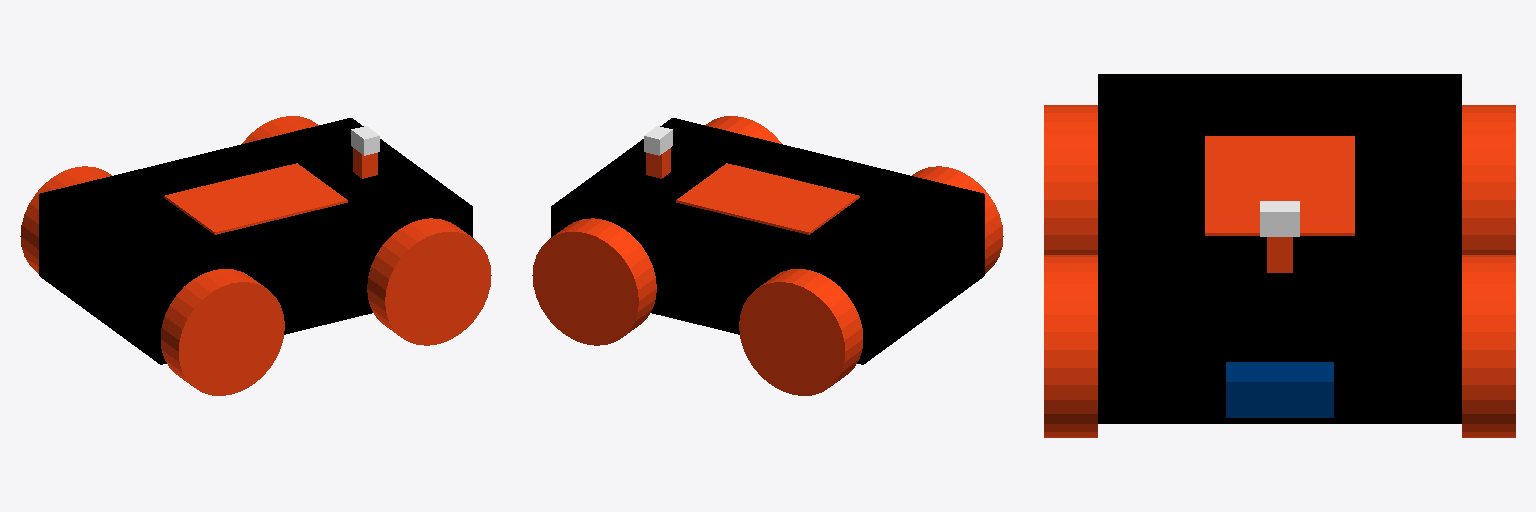
The robot description file, URDF, robot "robot":
<?xml version="1.0" ?>
<!-- =================================================================================== -->
<!-- |    This document was autogenerated by xacro from src/vision_bot/description/robot.urdf.xacro | -->
<!-- |    EDITING THIS FILE BY HAND IS NOT RECOMMENDED                                 | -->
<!-- =================================================================================== -->
<robot name="robot">
  <!-- COLORS -->
  <material name="white">
    <color rgba="1 1 1 1"/>
  </material>
  <material name="orange">
    <color rgba="1 0.3 0.1 1"/>
  </material>
  <material name="blue">
    <color rgba="0 0.2588 0.51 1"/>
  </material>
  <material name="black">
    <color rgba="0 0 0 1"/>
  </material>
  <!-- BASE LINK -->
  <link name="base_link">

    </link>
  <!-- COMPONENTS -->
  <!-- Specify some standard inertial calculations https://en.wikipedia.org/wiki/List_of_moments_of_inertia -->
  <!-- These make use of xacro's mathematical functionality -->
  <!-- CHASSIS LINK -->
  <joint name="chassis_joint" type="fixed">
    <parent link="base_link"/>
    <child link="chassis"/>
    <origin xyz="0 0 0.018"/>
  </joint>
  <link name="chassis">
    <visual>
      <origin xyz="0.1 0 0.025"/>
      <geometry>
        <box size="0.2 0.135 0.05"/>
      </geometry>
      <material name="black"/>
    </visual>
    <collision>
      <origin xyz="0.1 0 0.025"/>
      <geometry>
        <box size="0.2 0.135 0.05"/>
      </geometry>
      <material name="black"/>
    </collision>
    <inertial>
      <origin rpy="0 0 0" xyz="0.1 0 0.025"/>
      <mass value="1.5"/>
      <inertia ixx="0.002590625" ixy="0.0" ixz="0.0" iyy="0.005312500000000001" iyz="0.0" izz="0.007278125000000002"/>
    </inertial>
  </link>
  <joint name="cpu_joint" type="fixed">
    <parent link="chassis"/>
    <child link="cpu_link"/>
    <origin rpy="0 0 0" xyz="0.1 0 0.05075"/>
  </joint>
  <link name="cpu_link">
    <visual>
      <geometry>
        <box size="0.085 0.056 0.0015"/>
      </geometry>
      <material name="orange"/>
    </visual>
    <collision>
      <geometry>
        <box size="0.085 0.056 0.0015"/>
      </geometry>
      <material name="orange"/>
    </collision>
    <inertial>
      <origin rpy="0 0 0" xyz="0 0 0.0"/>
      <mass value="0.1"/>
      <inertia ixx="2.6152083333333337e-05" ixy="0.0" ixz="0.0" iyy="6.022708333333334e-05" iyz="0.0" izz="8.634166666666669e-05"/>
    </inertial>
  </link>
  <!-- Specify some standard inertial calculations https://en.wikipedia.org/wiki/List_of_moments_of_inertia -->
  <!-- These make use of xacro's mathematical functionality -->
  <!-- LEFT REAR WHEEL LINK -->
  <joint name="rear_left_wheel_joint" type="continuous">
    <parent link="chassis"/>
    <child link="rear_left_wheel"/>
    <origin rpy="-1.5707963267948966 0 0" xyz="0.034 0.0775 0.016000000000000004"/>
    <axis xyz="0 0 1"/>
  </joint>
  <link name="rear_left_wheel">
    <visual>
      <geometry>
        <cylinder length="0.02" radius="0.034"/>
      </geometry>
      <material name="orange"/>
    </visual>
    <collision>
      <geometry>
        <cylinder length="0.02" radius="0.034"/>
      </geometry>
      <material name="orange"/>
    </collision>
    <inertial>
      <origin rpy="0 0 0" xyz="0 0 0"/>
      <mass value="0.1"/>
      <inertia ixx="3.223333333333334e-05" ixy="0.0" ixz="0.0" iyy="3.223333333333334e-05" iyz="0.0" izz="5.780000000000001e-05"/>
    </inertial>
  </link>
  <!-- RIGHT REAR WHEEL LINK -->
  <joint name="rear_right_wheel_joint" type="continuous">
    <parent link="chassis"/>
    <child link="rear_right_wheel"/>
    <origin rpy="1.5707963267948966 0 0" xyz="0.034 -0.0775 0.016000000000000004"/>
    <axis xyz="0 0 -1"/>
  </joint>
  <link name="rear_right_wheel">
    <visual>
      <geometry>
        <cylinder length="0.02" radius="0.034"/>
      </geometry>
      <material name="orange"/>
    </visual>
    <collision>
      <geometry>
        <cylinder length="0.02" radius="0.034"/>
      </geometry>
      <material name="orange"/>
    </collision>
    <inertial>
      <origin rpy="0 0 0" xyz="0 0 0"/>
      <mass value="0.1"/>
      <inertia ixx="3.223333333333334e-05" ixy="0.0" ixz="0.0" iyy="3.223333333333334e-05" iyz="0.0" izz="5.780000000000001e-05"/>
    </inertial>
  </link>
  <!-- LEFT FRONT WHEEL LINK -->
  <joint name="front_left_wheel_joint" type="continuous">
    <parent link="chassis"/>
    <child link="front_left_wheel"/>
    <origin rpy="-1.5707963267948966 0 0" xyz="0.166 0.0775 0.016000000000000004"/>
    <axis xyz="0 0 1"/>
  </joint>
  <link name="front_left_wheel">
    <visual>
      <geometry>
        <cylinder length="0.02" radius="0.034"/>
      </geometry>
      <material name="orange"/>
    </visual>
    <collision>
      <geometry>
        <cylinder length="0.02" radius="0.034"/>
      </geometry>
      <material name="orange"/>
    </collision>
    <inertial>
      <origin rpy="0 0 0" xyz="0 0 0"/>
      <mass value="0.1"/>
      <inertia ixx="3.223333333333334e-05" ixy="0.0" ixz="0.0" iyy="3.223333333333334e-05" iyz="0.0" izz="5.780000000000001e-05"/>
    </inertial>
  </link>
  <!-- RIGHT FRONT WHEEL LINK -->
  <joint name="front_right_wheel_joint" type="continuous">
    <parent link="chassis"/>
    <child link="front_right_wheel"/>
    <origin rpy="1.5707963267948966 0 0" xyz="0.166 -0.0775 0.016000000000000004"/>
    <axis xyz="0 0 -1"/>
  </joint>
  <link name="front_right_wheel">
    <visual>
      <geometry>
        <cylinder length="0.02" radius="0.034"/>
      </geometry>
      <material name="orange"/>
    </visual>
    <collision>
      <geometry>
        <cylinder length="0.02" radius="0.034"/>
      </geometry>
      <material name="orange"/>
    </collision>
    <inertial>
      <origin rpy="0 0 0" xyz="0 0 0"/>
      <mass value="0.1"/>
      <inertia ixx="3.223333333333334e-05" ixy="0.0" ixz="0.0" iyy="3.223333333333334e-05" iyz="0.0" izz="5.780000000000001e-05"/>
    </inertial>
  </link>
  <!-- Specify some standard inertial calculations https://en.wikipedia.org/wiki/List_of_moments_of_inertia -->
  <!-- These make use of xacro's mathematical functionality -->
  <joint name="camera_neck_joint" type="fixed">
    <parent link="chassis"/>
    <child link="camera_neck_link"/>
    <origin rpy="0 0 0" xyz="0.17 0 0.0575"/>
  </joint>
  <link name="camera_neck_link">
    <visual>
      <geometry>
        <box size="0.01 0.01 0.015"/>
      </geometry>
      <material name="orange"/>
    </visual>
  </link>
  <joint name="camera_joint" type="fixed">
    <parent link="camera_neck_link"/>
    <child link="camera_link"/>
    <origin rpy="0 0 0" xyz="0 0 0.0125"/>
  </joint>
  <link name="camera_link">
    <visual>
      <geometry>
        <box size="0.01 0.015 0.01"/>
      </geometry>
      <material name="white"/>
    </visual>
  </link>
  <joint name="camera_optical_joint" type="fixed">
    <parent link="camera_link"/>
    <child link="camera_link_optical"/>
    <origin rpy="-1.5707963267948966 0 -1.5707963267948966" xyz="0 0 0"/>
  </joint>
  <link name="camera_link_optical"/>
  <gazebo reference="camera_link">
    <sensor name="camera" type="camera">
      <update_rate>30</update_rate>
      <topic>camera/image_raw</topic>
      <camera>
        <camera_info_topic>camera/camera_info</camera_info_topic>
        <horizontal_fov>1.089</horizontal_fov>
        <image>
          <format>R8G8B8</format>
          <width>640</width>
          <height>480</height>
        </image>
        <clip>
          <near>0.05</near>
          <far>8.0</far>
        </clip>
      </camera>
      <always_on>true</always_on>
      <visualize>true</visualize>
    </sensor>
  </gazebo>
  <joint name="front_uss_joint" type="fixed">
    <parent link="chassis"/>
    <child link="front_uss_link"/>
    <origin rpy="0 0 0" xyz="0.20750000000000002 0 0.018"/>
  </joint>
  <link name="front_uss_link">
    <visual>
      <geometry>
        <box size="0.02 0.04 0.015"/>
      </geometry>
      <material name="blue"/>
    </visual>
  </link>
  <gazebo reference="front_uss_link">
    <sensor name="sonar_front" type="gpu_lidar">
      <topic>robot/sonar_front</topic>
      <pose> 0 0 0 0 0 0 </pose>
      <visualize>false</visualize>
      <update_rate>10</update_rate>
      <lidar>
        <scan>
          <horizontal>
            <samples>10</samples>
            <min_angle>-0.01</min_angle>
            <max_angle>0.01</max_angle>
          </horizontal>
        </scan>
        <range>
          <min>0.3</min>
          <max>12</max>
        </range>
      </lidar>
      <always_on>1</always_on>
      <visualize>true</visualize>
      <gz_frame_id>laser_frame</gz_frame_id>
    </sensor>
  </gazebo>
  <ros2_control name="vision_bot_hw" type="system">
    <hardware>
      <plugin>gz_ros2_control/GazeboSimSystem</plugin>
    </hardware>
    <joint name="rear_left_wheel_joint">
      <command_interface name="velocity"/>
      <state_interface name="position"/>
      <state_interface name="velocity"/>
    </joint>
    <joint name="rear_right_wheel_joint">
      <command_interface name="velocity"/>
      <state_interface name="position"/>
      <state_interface name="velocity"/>
    </joint>
    <joint name="front_left_wheel_joint">
      <command_interface name="velocity"/>
      <state_interface name="position"/>
      <state_interface name="velocity"/>
    </joint>
    <joint name="front_right_wheel_joint">
      <command_interface name="velocity"/>
      <state_interface name="position"/>
      <state_interface name="velocity"/>
    </joint>
  </ros2_control>
  <gazebo>
    <plugin filename="libgz_ros2_control-system.so" name="gz_ros2_control::GazeboSimROS2ControlPlugin">
      <parameters>/home/gasa14/Workspaces/dev_ws/install/vision_bot/share/vision_bot/config/controllers.yaml</parameters>
    </plugin>
    <plugin filename="gz-sim-sensors-system" name="gz::sim::systems::Sensors">
        </plugin>
  </gazebo>
</robot>

--- Facts derived from the render (not from the file) ---
Views: 3 orthographic renders of the robot side by side, from view 1: azimuth 30°, elevation 25°; view 2: azimuth 150°, elevation 25°; view 3: azimuth 270°, elevation 25°.
Robot: robot — 11 links, 10 joints (4 continuous, 6 fixed); root link base_link; default pose: every joint at zero.
Links seen in each view (by area): view 1: chassis, rear_right_wheel, front_right_wheel, cpu_link, rear_left_wheel, front_left_wheel, camera_link, camera_neck_link; view 2: chassis, rear_left_wheel, front_left_wheel, cpu_link, rear_right_wheel, front_right_wheel, camera_link, camera_neck_link; view 3: chassis, cpu_link, front_left_wheel, front_right_wheel, rear_left_wheel, rear_right_wheel, front_uss_link, camera_link, camera_neck_link.
Boxes of the visible links, box(x1,y1,x2,y2) form: chassis: box(39, 118, 472, 364); rear_right_wheel: box(161, 269, 284, 395); front_right_wheel: box(367, 218, 491, 345); cpu_link: box(164, 163, 347, 234); rear_left_wheel: box(20, 166, 111, 273); front_left_wheel: box(242, 116, 318, 143); camera_link: box(351, 126, 379, 155); camera_neck_link: box(353, 148, 377, 178); chassis: box(551, 118, 984, 364); rear_left_wheel: box(739, 269, 862, 395); front_left_wheel: box(532, 218, 656, 345); cpu_link: box(676, 163, 859, 234); rear_right_wheel: box(912, 166, 1003, 273); front_right_wheel: box(705, 116, 781, 143); camera_link: box(644, 126, 672, 155); camera_neck_link: box(646, 148, 670, 178); chassis: box(1098, 74, 1461, 423); cpu_link: box(1205, 136, 1354, 235); front_left_wheel: box(1462, 255, 1515, 437); front_right_wheel: box(1044, 255, 1097, 437); rear_left_wheel: box(1462, 105, 1515, 254); rear_right_wheel: box(1044, 105, 1097, 254); front_uss_link: box(1226, 362, 1333, 417); camera_link: box(1260, 201, 1299, 236); camera_neck_link: box(1267, 237, 1292, 272).
Size in the robot's own frame: 0.2175 by 0.175 by 0.093 metres.
Geometry: primitives only (box / cylinder / sphere), no mesh files.
